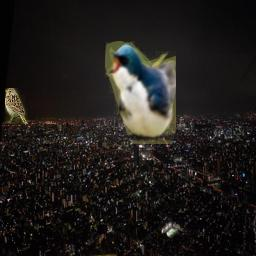Sparrow: (5, 88, 28, 124)
Swallow: (105, 41, 176, 144)
